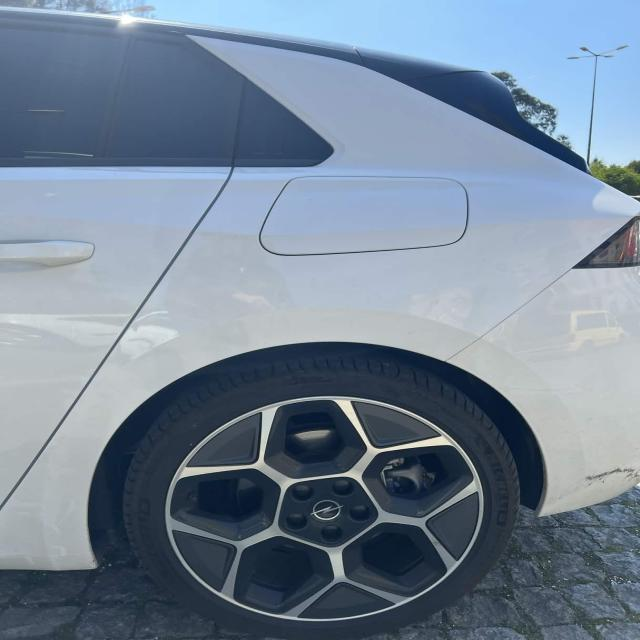jante: (166, 397, 485, 622)
parafuso: (286, 481, 316, 503), (347, 503, 375, 526), (332, 474, 354, 500), (284, 511, 310, 532), (321, 527, 344, 545)
roda: (109, 351, 524, 640)
